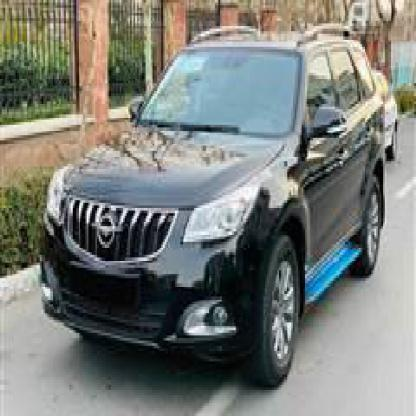car: (38, 20, 385, 406), (376, 60, 411, 164)
